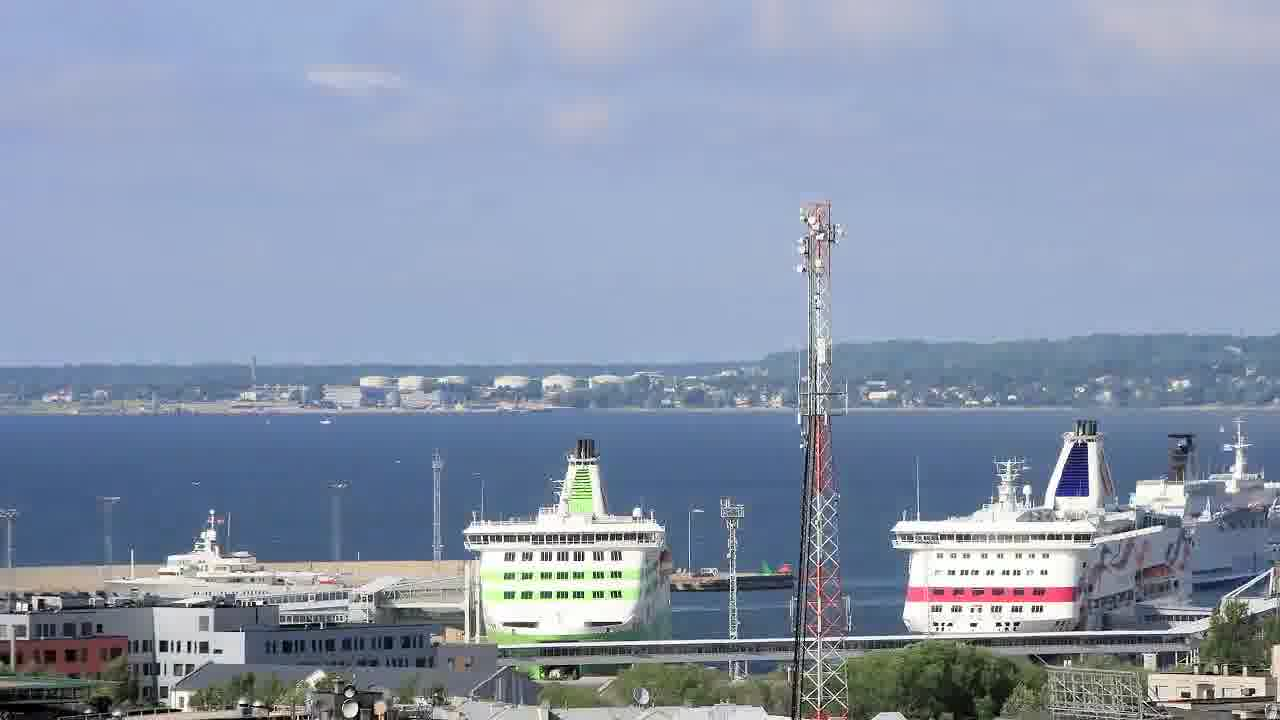type-3: (868, 415, 1225, 638), (436, 434, 694, 670), (83, 505, 359, 635), (1089, 415, 1279, 587)
